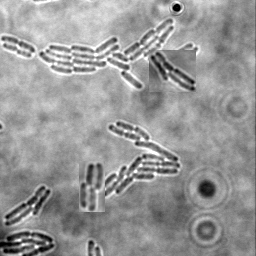Dividing: (1, 34, 37, 52), (3, 41, 33, 57)
Microcolony: (40, 18, 199, 89), (87, 120, 181, 197), (5, 184, 52, 226), (149, 50, 196, 92), (1, 230, 56, 255), (79, 161, 105, 212)
